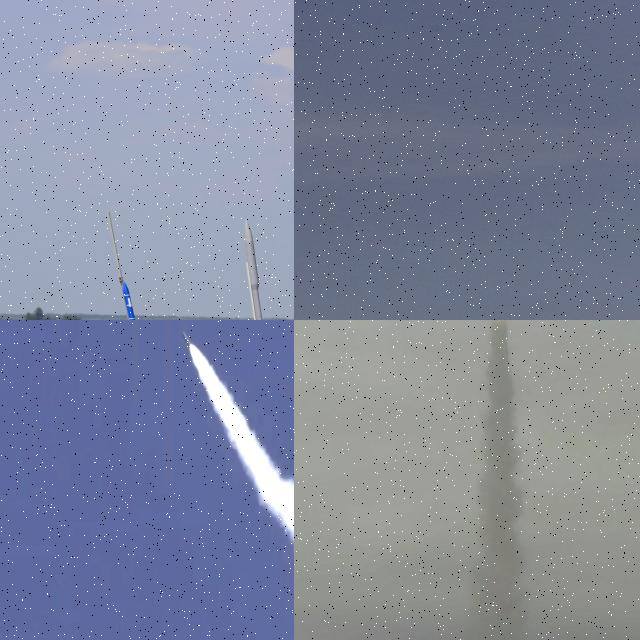Rocket: (244, 218, 263, 320), (122, 281, 136, 320), (181, 330, 192, 348)
